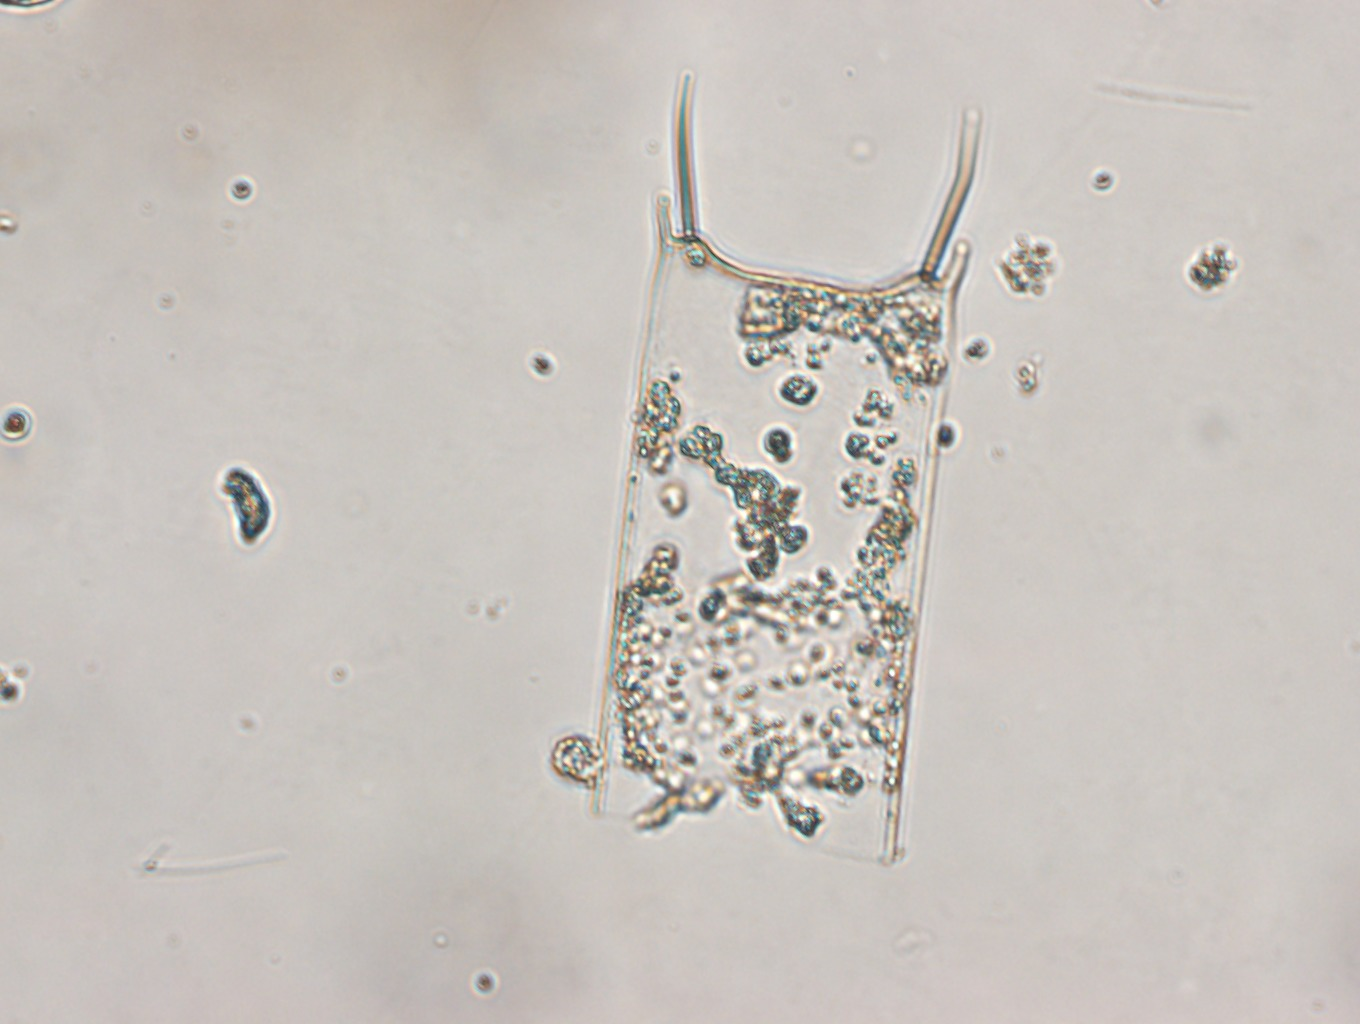biddulphia: (591, 67, 983, 863)
